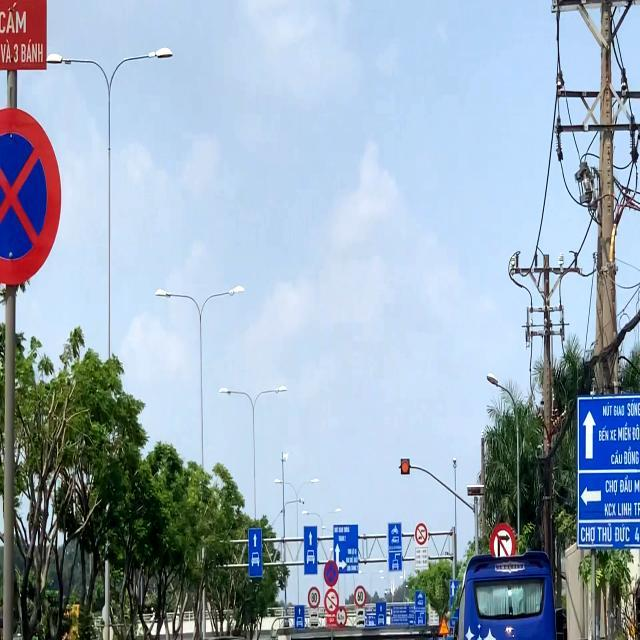Bien bao cam re phai: (483, 519, 517, 562)
